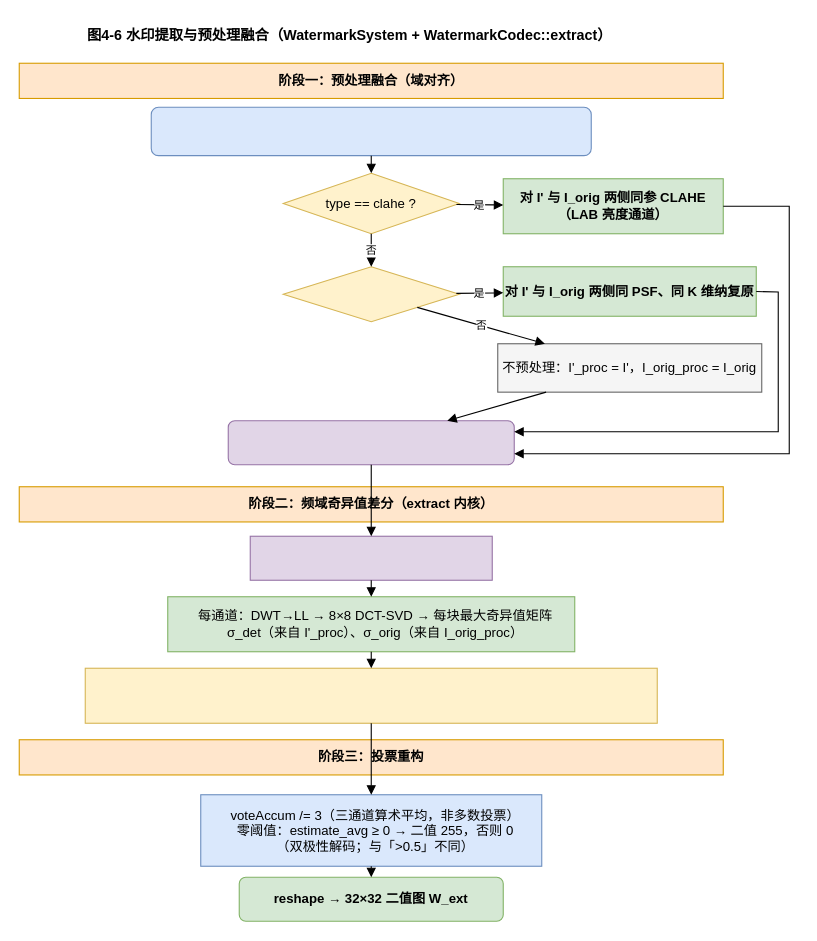
Some shapes in this 817 by 941 pixel diagram are drawn without their labels. The centre of each missing label's shape, as x and y in pixels:
"split → R,G,B；各通道 [0,1] float" belongs at [370,557].
"type == wiener ?" belongs at [370,294].
"得到域对齐后的 I'_proc、I_orig_proc" belongs at [370,442].
"每块：estimate = (σ_det − σ_orig) / α（公式4-2，标量最大奇异值） 三通道累加到 voteAccum[idx]" belongs at [370,695].
"输入：待检测 I'、原始载体 I_orig、α、type（none / clahe / wiener）" belongs at [370,131].
